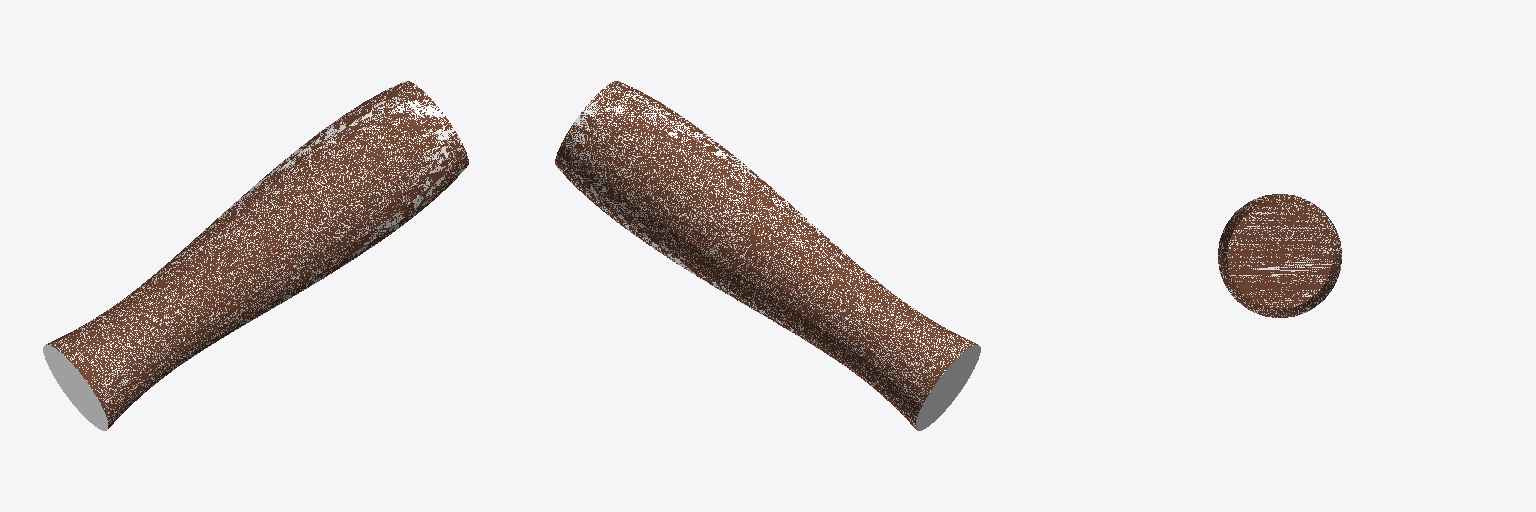
The model's file is original-2.obj.
The picture shows the model from 3 angles: view 1: azimuth 30°, elevation 25°; view 2: azimuth 150°, elevation 25°; view 3: azimuth 270°, elevation 25°; orthographic projection.
Parts seen in each view (by area): view 1: Group3/mesh3/mesh3-geometry#mesh3-geometry; view 2: Group3/mesh3/mesh3-geometry#mesh3-geometry; view 3: Group3/mesh3/mesh3-geometry#mesh3-geometry.
Part boxes in pixels (x1,y1,x2,y2): Group3/mesh3/mesh3-geometry#mesh3-geometry: (43,81,468,430); Group3/mesh3/mesh3-geometry#mesh3-geometry: (555,81,980,430); Group3/mesh3/mesh3-geometry#mesh3-geometry: (1218,194,1341,317).
Bounding box in the file's own units: 0.5762 × 0.3626 × 0.1564.